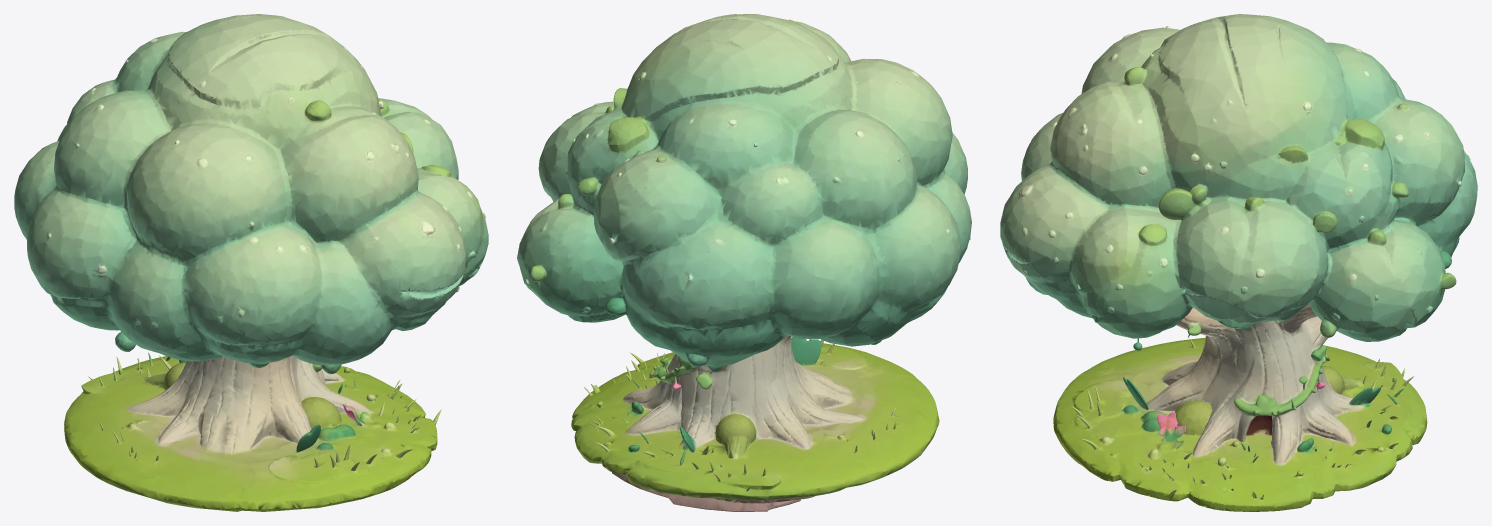
Rendered from prop_tree.glb.
3 views of the same model, side by side, from view 1: azimuth 30°, elevation 25°; view 2: azimuth 150°, elevation 25°; view 3: azimuth 270°, elevation 25° (orthographic).
Visible parts, largest first — view 1: tripo_node_3508e6ea-1613-4c57-ad5d-8af8ea48a5b1; view 2: tripo_node_3508e6ea-1613-4c57-ad5d-8af8ea48a5b1; view 3: tripo_node_3508e6ea-1613-4c57-ad5d-8af8ea48a5b1.
Boxes of the visible parts, x1,y1,x2,y2 form: tripo_node_3508e6ea-1613-4c57-ad5d-8af8ea48a5b1: [14, 14, 488, 511]; tripo_node_3508e6ea-1613-4c57-ad5d-8af8ea48a5b1: [517, 14, 971, 511]; tripo_node_3508e6ea-1613-4c57-ad5d-8af8ea48a5b1: [1000, 14, 1477, 511].
Size of the model in its own units: 0.9781 by 0.9684 by 0.9998.
1 material, 1 textured.
